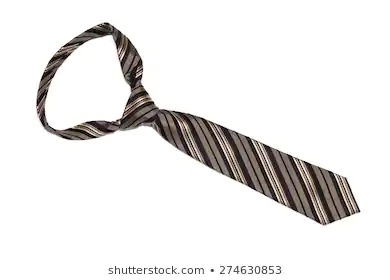F_tie: (20, 17, 371, 231)
